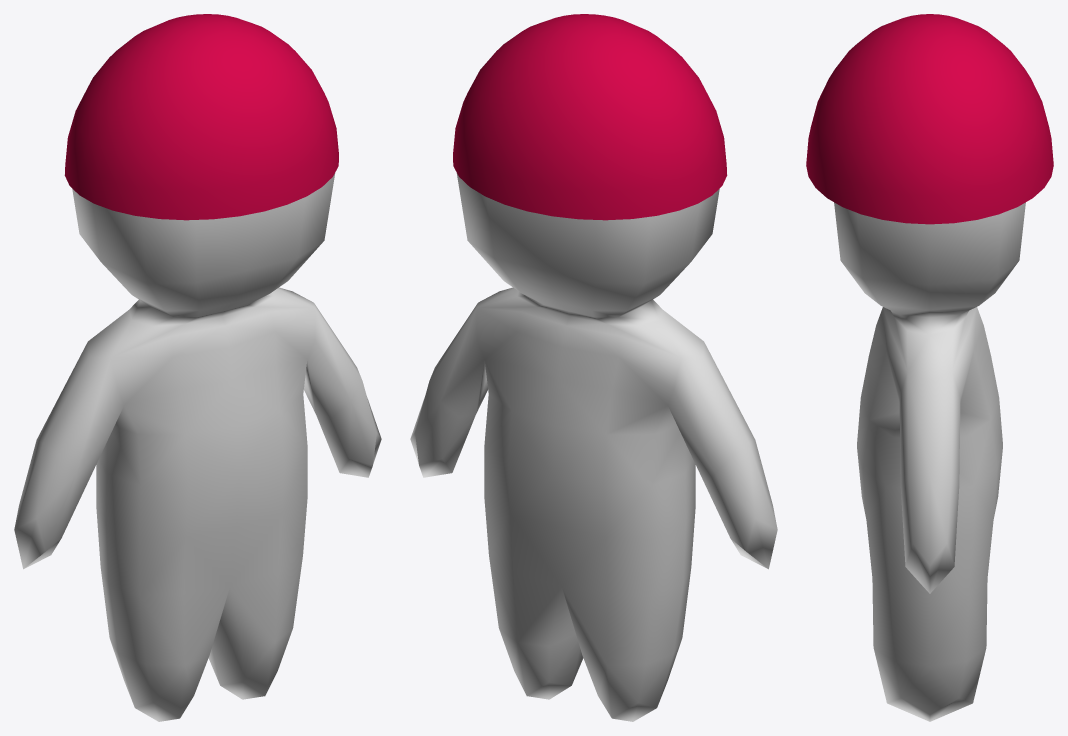
Rendered from unit_red.fbx.
The picture shows the model from 3 angles, left to right: view 1: azimuth 30°, elevation 25°; view 2: azimuth 150°, elevation 25°; view 3: azimuth 270°, elevation 25°; orthographic projection.
Parts seen in each view (by area): view 1: 立方体, 球; view 2: 立方体, 球; view 3: 立方体, 球.
Part boxes in pixels (left/top/right/bottom): 立方体: left=14, top=173, right=381, bottom=721; 球: left=64, top=14, right=338, bottom=220; 立方体: left=410, top=173, right=777, bottom=721; 球: left=453, top=14, right=727, bottom=220; 立方体: left=834, top=202, right=1025, bottom=721; 球: left=806, top=14, right=1053, bottom=224.
Bounding box in the file's own units: 330 × 589 × 195.
